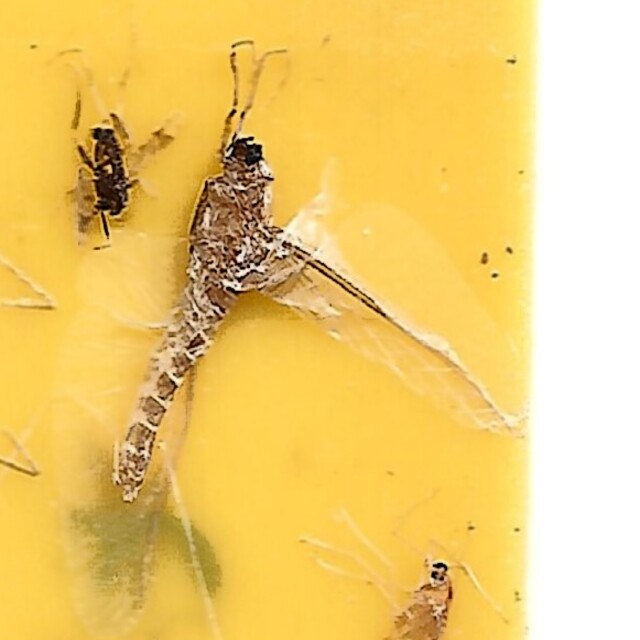Ephemeroptera: (110, 133, 530, 507)
